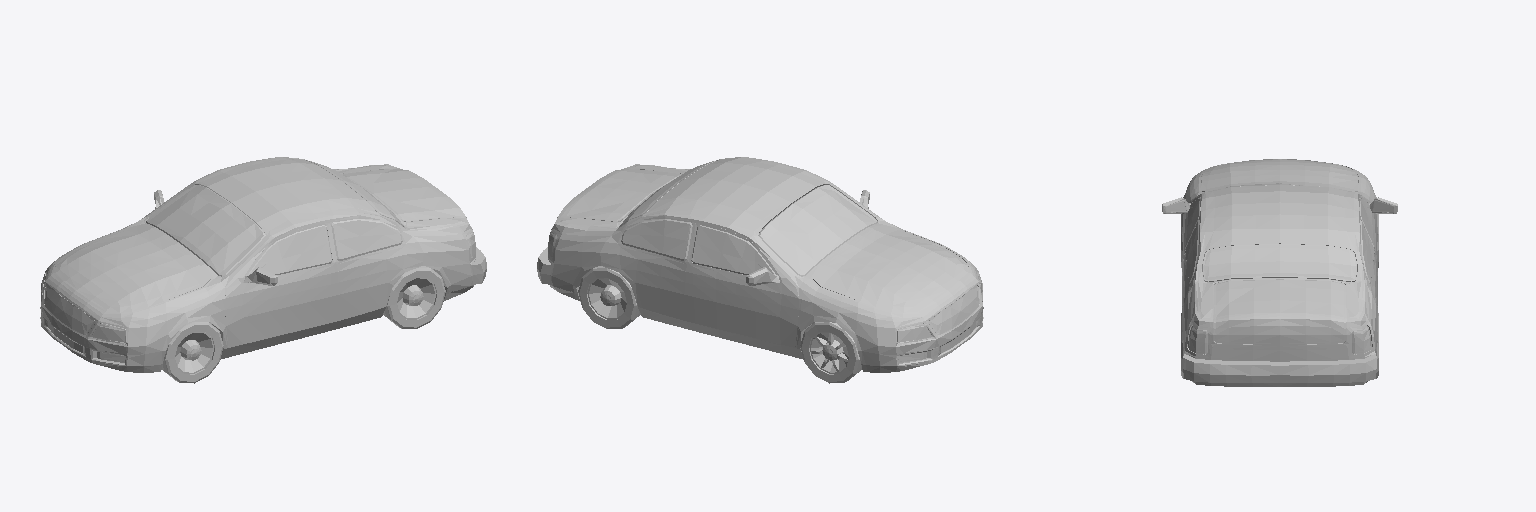
The model's file is car02.obj.
The picture shows the model from 3 angles: view 1: azimuth 30°, elevation 25°; view 2: azimuth 150°, elevation 25°; view 3: azimuth 270°, elevation 25°; orthographic projection.
Parts seen in each view (by area): view 1: LowPolyCar_freeSample_Cube.030; view 2: LowPolyCar_freeSample_Cube.030; view 3: LowPolyCar_freeSample_Cube.030.
Boxes of the visible parts, <box> form: LowPolyCar_freeSample_Cube.030: <box>40,157,486,383</box>; LowPolyCar_freeSample_Cube.030: <box>537,157,983,383</box>; LowPolyCar_freeSample_Cube.030: <box>1162,159,1397,386</box>.
Size of the model in its own units: 4.59 by 1.48 by 2.42.